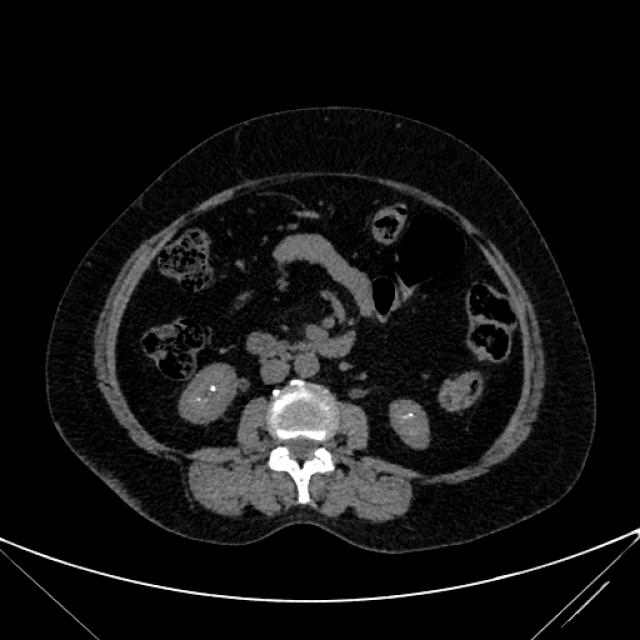kidney: (180, 360, 249, 430), (387, 393, 432, 456)
stone: (210, 385, 218, 392), (195, 396, 202, 403), (408, 412, 414, 418)
